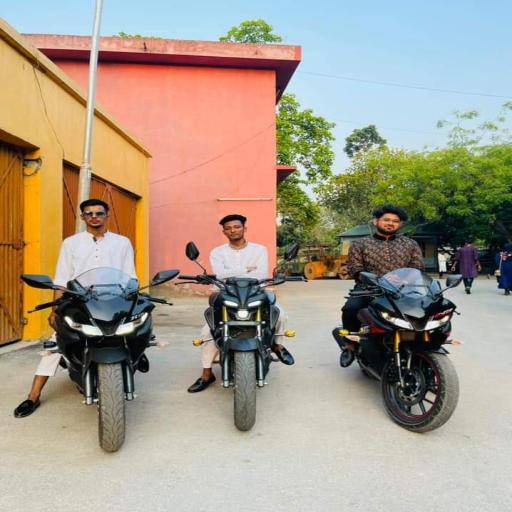overloading: (12, 195, 470, 451)
